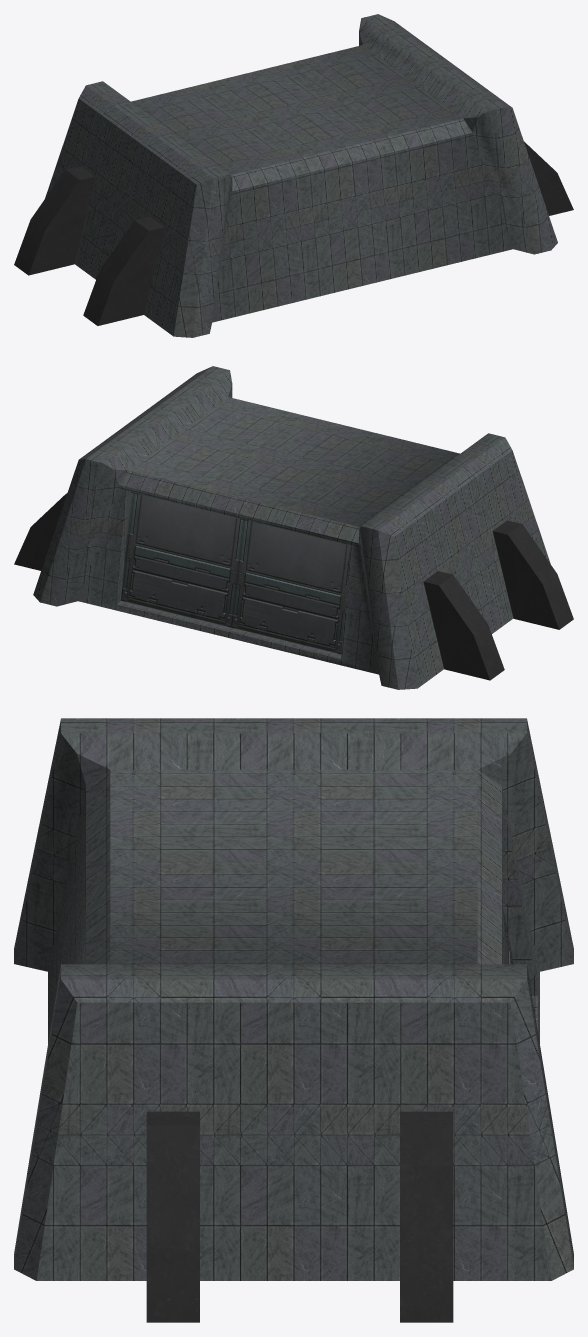
The model's file is Hangar.FBX.
3 views of the same model, one above another, from view 1: azimuth 30°, elevation 25°; view 2: azimuth 150°, elevation 25°; view 3: azimuth 270°, elevation 25° (orthographic). The views are drawn at different scales.
Visible parts, largest first — view 1: Box32, Box33; view 2: Box32, Box46, Box33; view 3: Box32, Box33.
Part boxes in pixels (x1,y1,x2,y2): Box32: (45,14,557,337); Box33: (14,141,573,325); Box32: (33,366,550,689); Box46: (121,492,350,654); Box33: (14,493,573,680); Box32: (14,718,573,1280); Box33: (146,1111,453,1322).
Bounding box in the file's own units: 397 × 114 × 221.
Materials: 3 (3 with a texture image).
